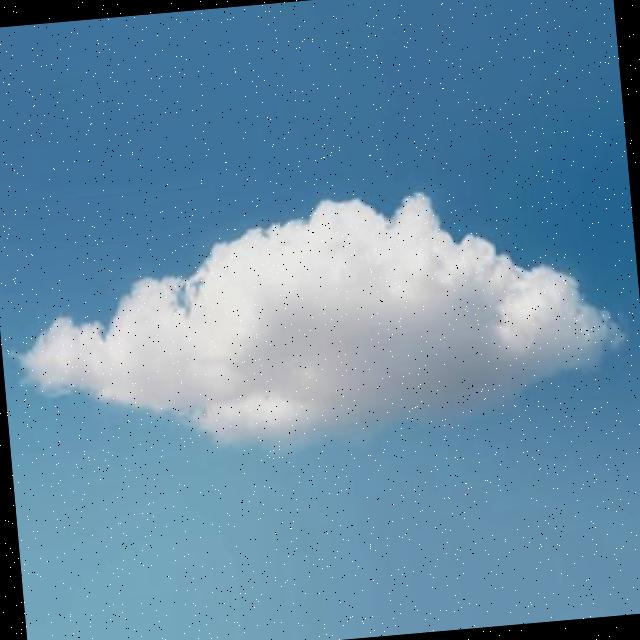Cu: (1, 140, 640, 502)
